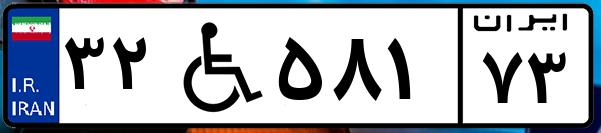1: (385, 28, 445, 110)
2: (110, 28, 158, 98)
3: (57, 26, 110, 100), (525, 38, 570, 115)
5: (270, 28, 330, 110)
7: (475, 38, 525, 113)
8: (330, 28, 385, 110)
ژ (معلولین و جانبازان): (158, 12, 270, 120)
